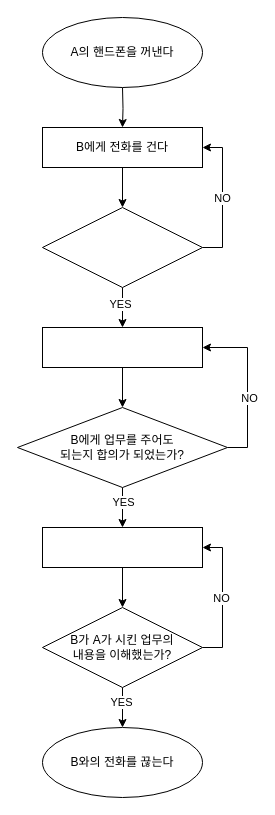
The diagram is 275 pixels wide and 815 high, and some of its shapes have lost their labels. The centre of each missing label's shape, as x and y in pixels:
"B가 전화를 받았는가?" belongs at point 122,247.
"B가 해야 할 업무를 설명한다" belongs at point 122,547.
"B에게 A가 받은 임무를 설명한다" belongs at point 122,347.
